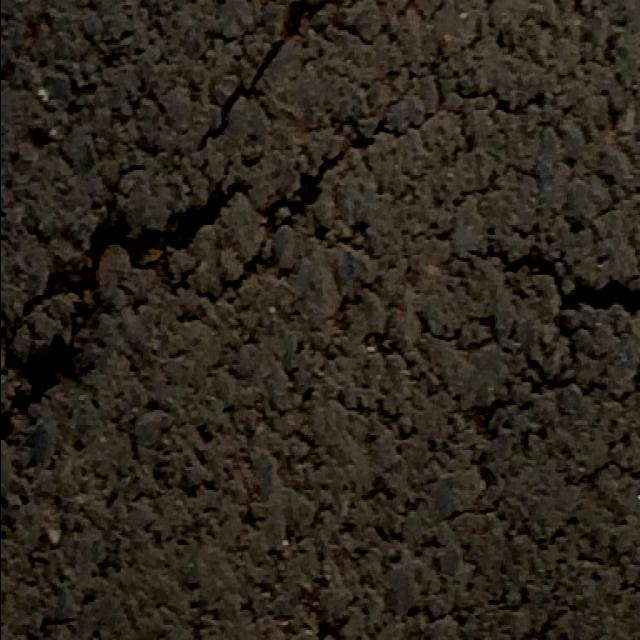crack: (4, 45, 448, 437), (468, 234, 640, 352)
spall: (9, 188, 220, 410)
